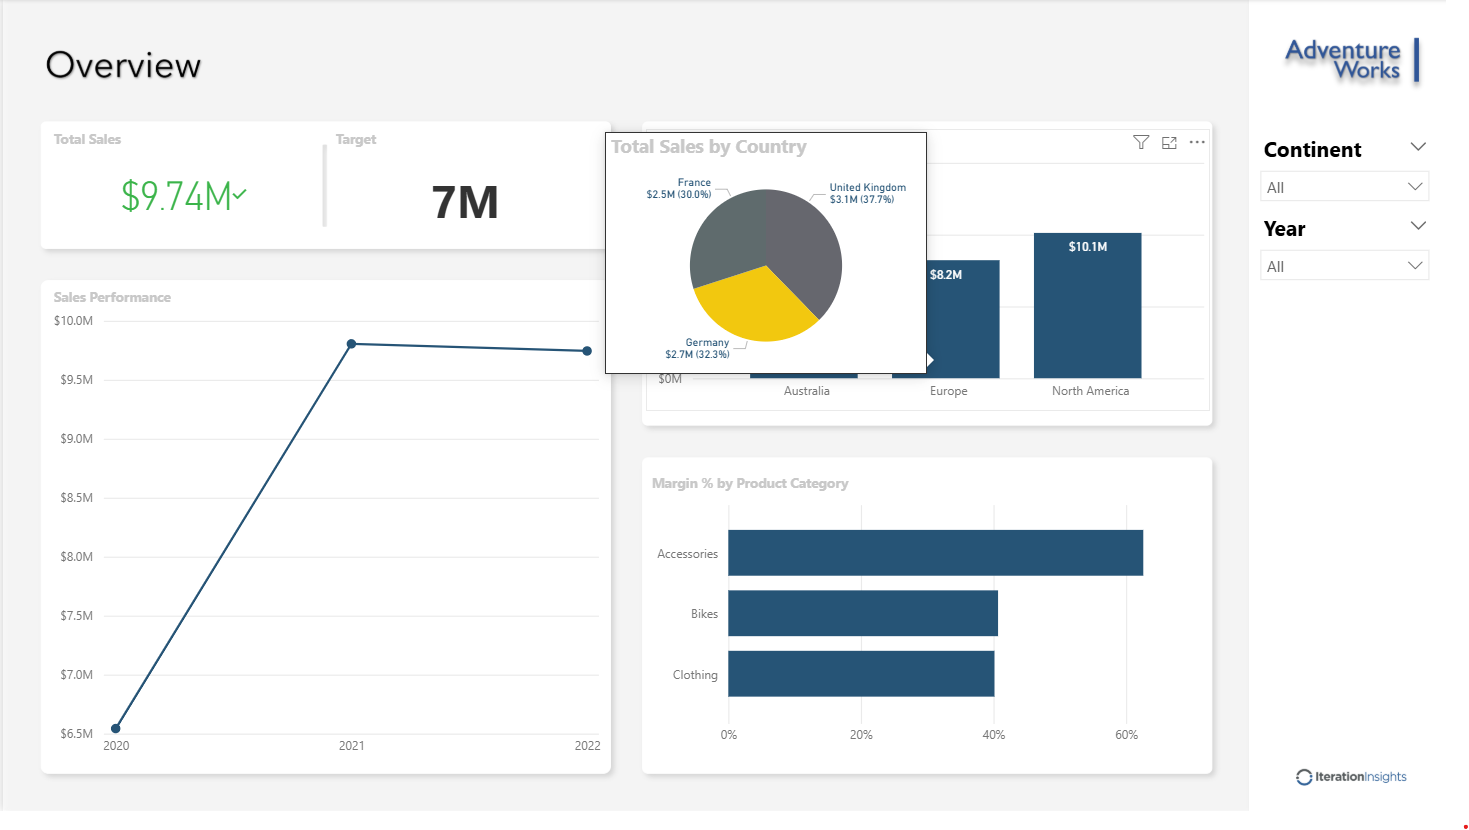

This screenshot's page, from the dashboard's own definition file:
{"tool":"powerbi","page":{"name":"Overview","canvas":[1280,720],"ordinal":0},"visuals":[{"type":"clusteredColumnChart","title":"Total Sales by Continent","fields":{"Category":["Sales Territory.Sales Territory Continent"],"Y":["Sales.Total Sales"]},"box":[570,115,500,250],"z":0},{"type":"clusteredBarChart","title":"Margin % by Product Category","fields":{"Category":["Product.Product Hierarchy.Product Category","Product.Product Hierarchy.Product Subcategory"],"Y":["Sales.Total Margin %"]},"box":[570,420,500.4,250],"z":1},{"type":"lineChart","title":"Sales Performance","fields":{"Y":["Sales.Total Sales"],"Category":["Order Date.Order Date Hierarchy.Order Date Year","Order Date.Order Date Hierarchy.Order Date Month","Order Date.Order Date Hierarchy.Order Date"]},"box":[40,255,495,425],"z":2},{"type":"kpi","title":"Total Sales","fields":{"Indicator":["Sales.Total Sales"],"TrendLine":["Order Date.Order Date Year"],"Goal":["Sales.Target"]},"box":[40,115,240,100],"z":3},{"type":"cardVisual","title":"Target","fields":{"Data":["Sales.Target"]},"box":[290,115,240,100],"z":4},{"type":"slicer","title":"Continent","fields":{"Values":["Sales Territory.Sales Territory Continent"]},"box":[1105,115,170,70],"z":5},{"type":"slicer","title":"Year","fields":{"Values":["Order Date.Order Date Year"]},"box":[1105,185,170.2,70],"z":6}]}

Visuals, with their boxes in screenshot pixels (x1, y1, x2, y2), scaled from the page's 1280x720 canvas onto the 1469x830 screenshot:
"Total Sales by Continent" clusteredColumnChart: 654:133:1228:421
"Margin % by Product Category" clusteredBarChart: 654:484:1228:772
"Sales Performance" lineChart: 46:294:614:784
"Total Sales" kpi: 46:133:321:248
"Target" cardVisual: 333:133:608:248
"Continent" slicer: 1268:133:1463:213
"Year" slicer: 1268:213:1463:294
